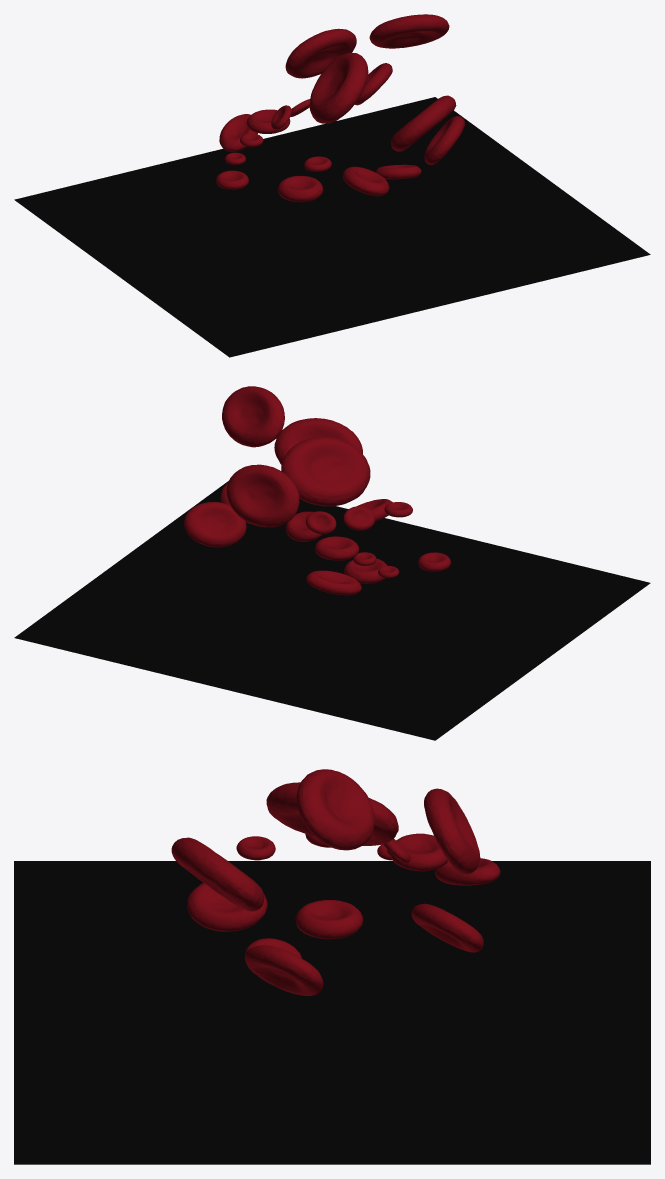
The picture shows the model from 3 angles, top to bottom: view 1: azimuth 30°, elevation 25°; view 2: azimuth 150°, elevation 25°; view 3: azimuth 270°, elevation 25°; orthographic projection. The views are drawn at different scales.
Parts seen in each view (by area): view 1: Plane, RBC; view 2: Plane, RBC; view 3: Plane, RBC.
Part boxes in pixels (x1,y1,x2,y2): Plane: (14,97,650,357); RBC: (216,14,464,202); Plane: (14,481,650,740); RBC: (184,386,450,595); Plane: (14,861,650,1164); RBC: (171,769,500,995).
Bounding box in the file's own units: 697 × 312 × 618.
